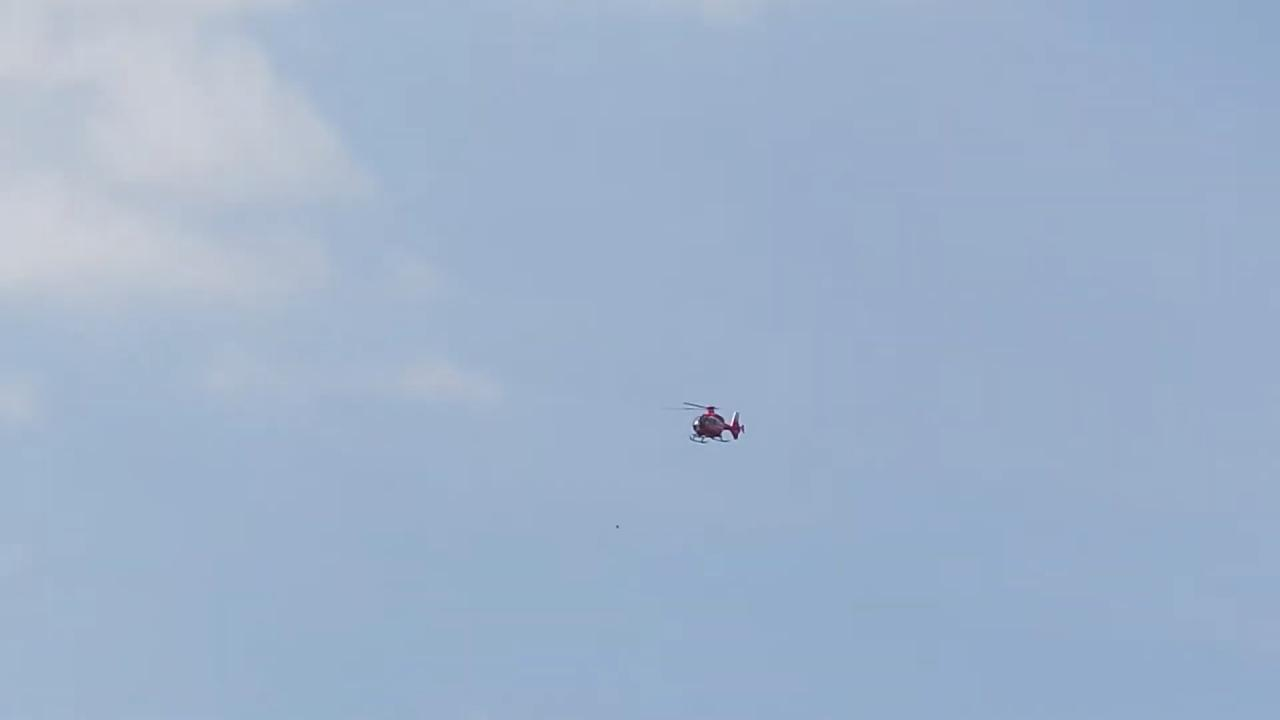Helicopter: (647, 382, 771, 469)
